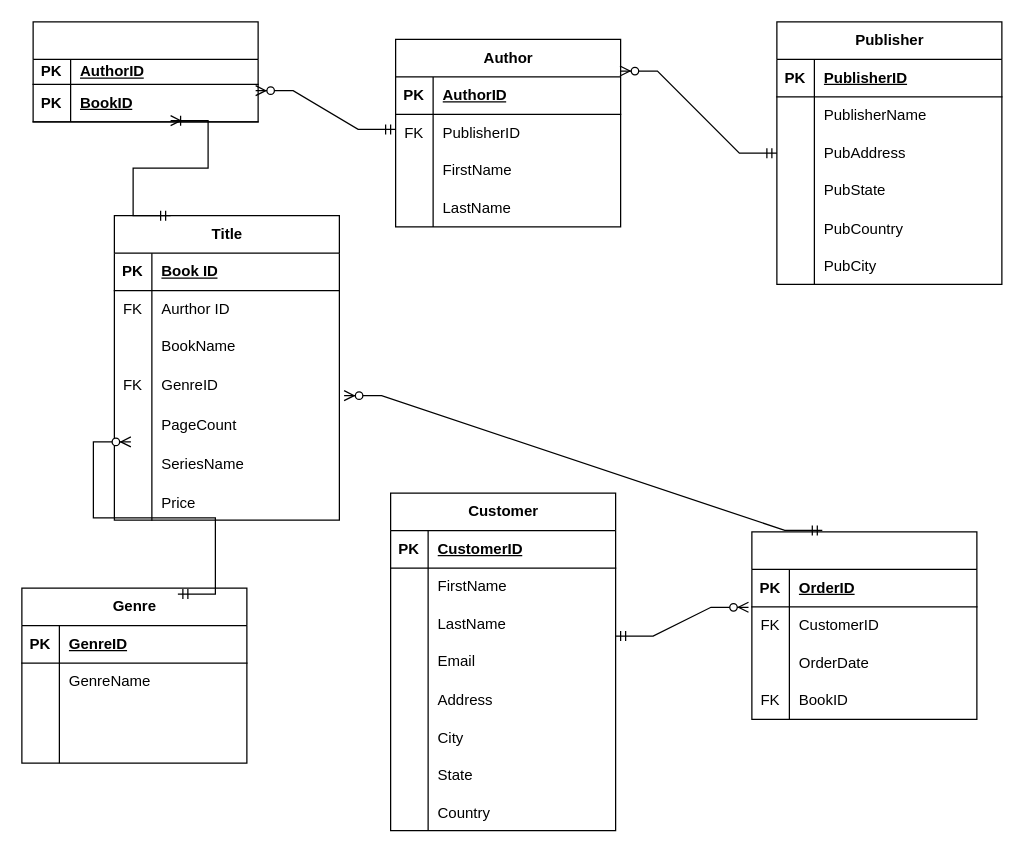
Image size: 1024x853. Some labels were removed from this diagram. Each missing label, with the box of its shape:
AuthorTitle: (32, 21, 258, 122)
Orders: (751, 531, 977, 719)
